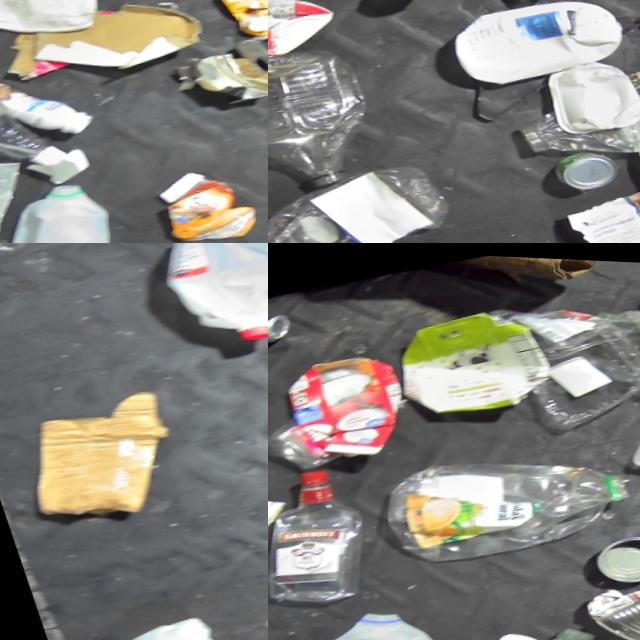can: (537, 138, 620, 192), (578, 521, 640, 588), (611, 389, 640, 490), (268, 297, 298, 368)
milk_jug: (429, 0, 628, 95), (134, 243, 268, 359), (0, 168, 128, 243), (268, 592, 456, 640), (43, 602, 226, 640)
non_white_jug: (377, 294, 560, 427), (270, 342, 420, 469)
plastic_bottle: (357, 416, 640, 582), (268, 34, 379, 193), (268, 150, 448, 243)
